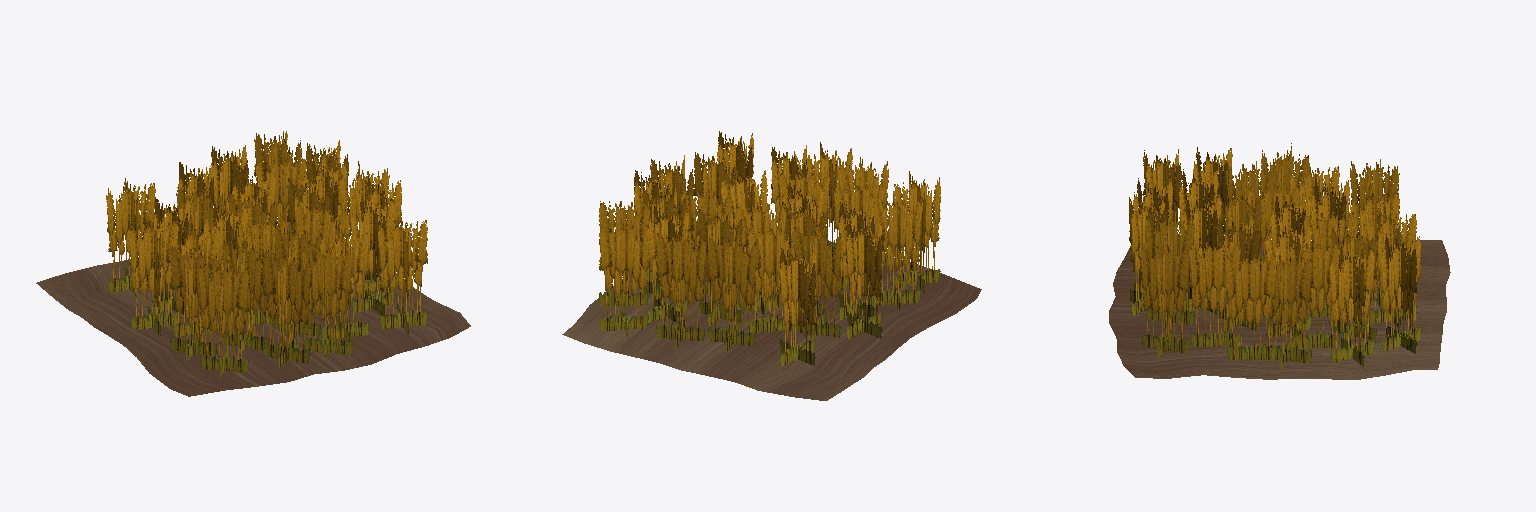
The picture shows the model from 3 angles: view 1: azimuth 30°, elevation 25°; view 2: azimuth 150°, elevation 25°; view 3: azimuth 270°, elevation 25°; orthographic projection.
Visible parts, largest first — view 1: group1 ground, group1 wheat13, group1 wheat18, group1 wheat20, group1 wheat25, group1 wheat30, group1 wheat12, group1 wheat9, group1 wheat21, group1 wheat16, group1 wheat15, group1 wheat19 (+17 smaller); view 2: group1 ground, wheat8 group1, group1 wheat26, group1 wheat27, group1 wheat12, group1 wheat9, group1 wheat25, group1 wheat11, group1 wheat24, group1 wheat20, group1 wheat7, group1 wheat23 (+17 smaller); view 3: group1 ground, group1 wheat18, group1 wheat29, group1 wheat6, group1 wheat27, group1 wheat16, group1 wheat5, group1 wheat28, group1 wheat15, group1 wheat26, group1 wheat30, group1 wheat19 (+17 smaller).
Part boxes in pixels (bbox=[...]): group1 ground: bbox=[36, 225, 470, 396]; group1 wheat13: bbox=[263, 249, 310, 367]; group1 wheat18: bbox=[378, 215, 427, 334]; group1 wheat20: bbox=[199, 256, 248, 378]; group1 wheat25: bbox=[129, 216, 178, 335]; group1 wheat30: bbox=[302, 242, 352, 361]; group1 wheat12: bbox=[170, 240, 217, 361]; group1 wheat9: bbox=[106, 178, 155, 297]; group1 wheat21: bbox=[222, 234, 269, 354]; group1 wheat16: bbox=[351, 196, 394, 315]; group1 wheat15: bbox=[320, 224, 368, 343]; group1 wheat19: bbox=[274, 219, 321, 338]; group1 ground: bbox=[562, 241, 981, 400]; wheat8 group1: bbox=[708, 229, 756, 351]; group1 wheat26: bbox=[656, 229, 705, 348]; group1 wheat27: bbox=[599, 219, 649, 338]; group1 wheat12: bbox=[874, 194, 921, 312]; group1 wheat9: bbox=[780, 248, 815, 365]; group1 wheat25: bbox=[846, 220, 882, 338]; group1 wheat11: bbox=[793, 221, 841, 340]; group1 wheat24: bbox=[748, 223, 796, 339]; group1 wheat20: bbox=[893, 171, 940, 293]; group1 wheat7: bbox=[647, 206, 688, 324]; group1 wheat23: bbox=[698, 205, 742, 325]; group1 ground: bbox=[1109, 236, 1450, 379]; group1 wheat18: bbox=[1141, 240, 1189, 359]; group1 wheat29: bbox=[1226, 255, 1276, 359]; group1 wheat6: bbox=[1330, 246, 1374, 366]; group1 wheat27: bbox=[1381, 234, 1420, 353]; group1 wheat16: bbox=[1189, 242, 1240, 346]; group1 wheat5: bbox=[1262, 252, 1311, 369]; group1 wheat28: bbox=[1289, 243, 1339, 347]; group1 wheat15: bbox=[1145, 212, 1194, 330]; group1 wheat26: bbox=[1368, 207, 1416, 328]; group1 wheat30: bbox=[1129, 196, 1167, 315]; group1 wheat19: bbox=[1182, 195, 1221, 314].
Size of the model in its own units: 2323 by 841 by 2330.
1 materials, 1 textured.